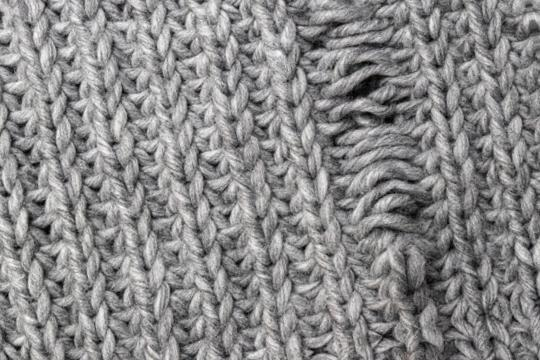slub: (292, 3, 456, 247)
